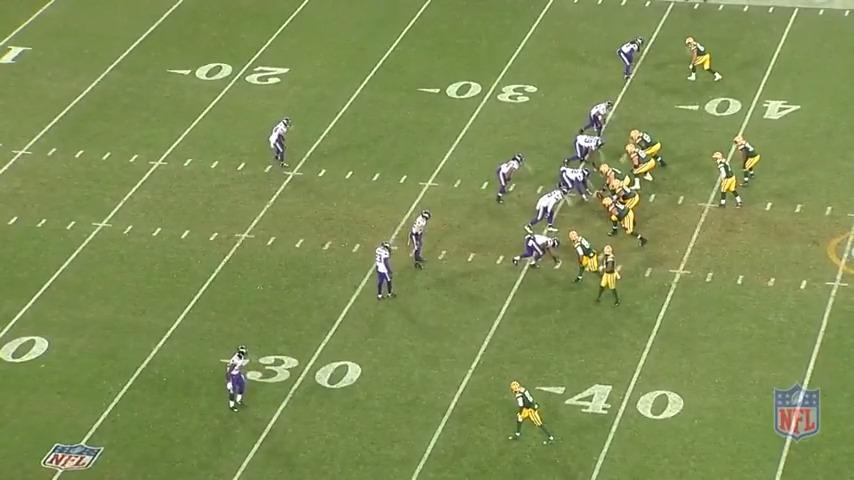player: (509, 379, 561, 452), (607, 197, 651, 249), (683, 34, 726, 85), (593, 242, 625, 310), (567, 231, 604, 287), (526, 190, 568, 236), (714, 151, 746, 211), (511, 234, 562, 270), (577, 99, 616, 146), (226, 345, 251, 414), (495, 153, 526, 206), (552, 167, 595, 205), (733, 133, 762, 189), (373, 241, 397, 304), (562, 133, 606, 167), (407, 209, 431, 271), (624, 142, 655, 189), (616, 34, 644, 84), (631, 127, 666, 166), (269, 114, 294, 168), (599, 163, 631, 196), (614, 183, 641, 217)
